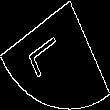L_NE: (33, 29, 77, 81)
